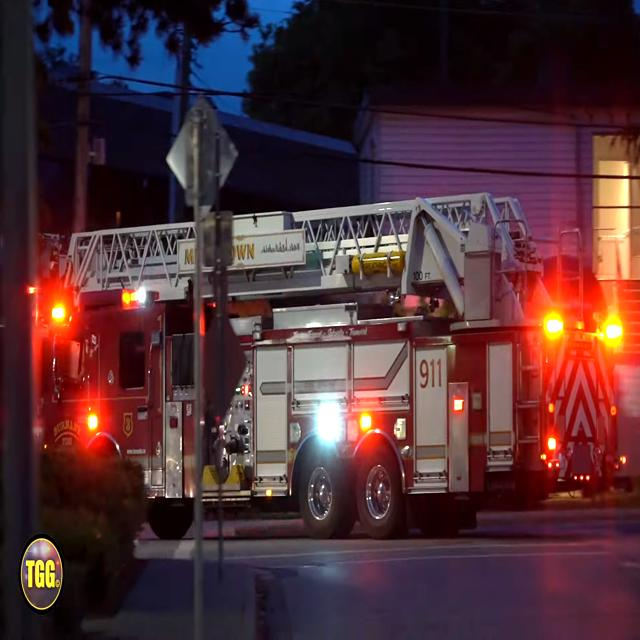emergency-vehicles: (4, 178, 634, 556)
